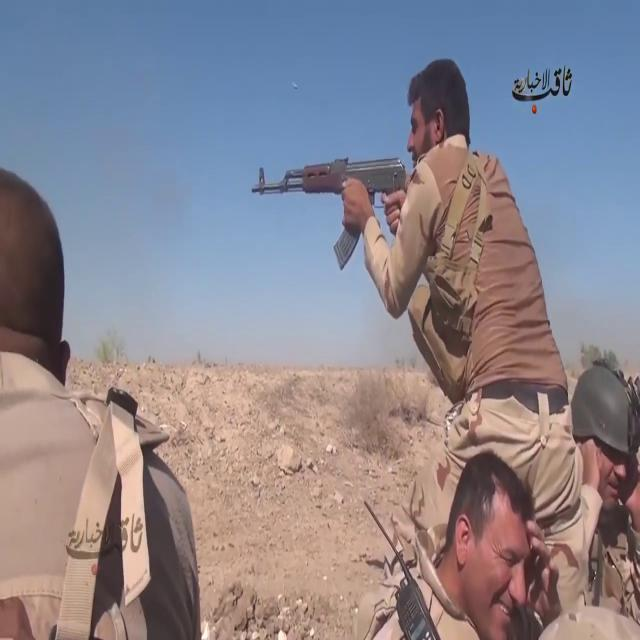long weapon: (248, 146, 406, 274)
